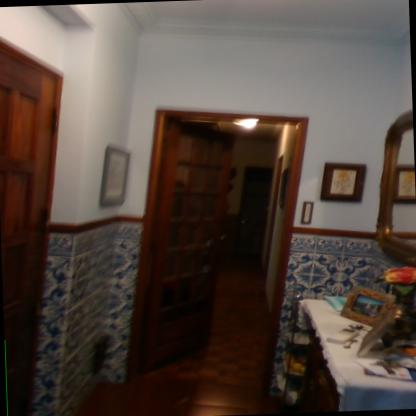semi: (127, 86, 329, 403)
